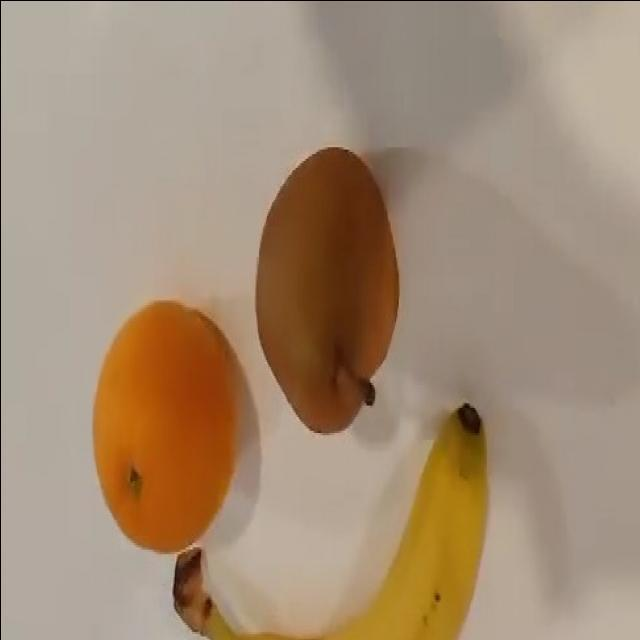Banana: (172, 401, 489, 639)
Orange: (91, 299, 242, 553)
